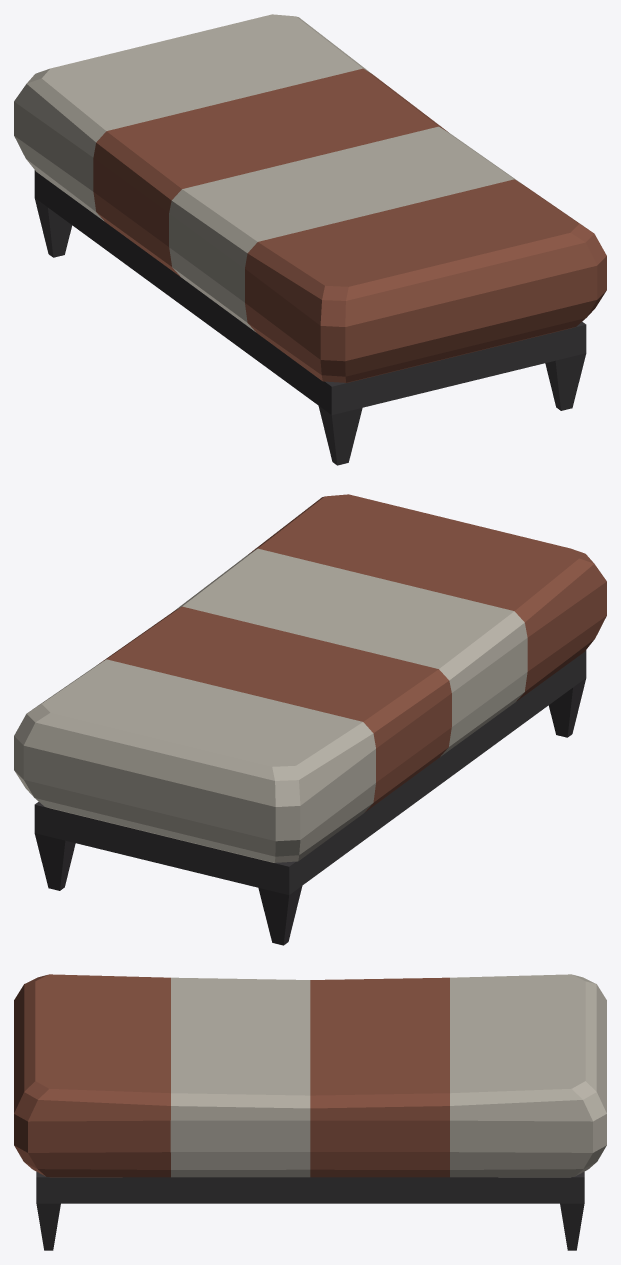
Rendered from SM_Pouf_02.glb.
The picture shows the model from 3 angles, top to bottom: view 1: azimuth 30°, elevation 25°; view 2: azimuth 150°, elevation 25°; view 3: azimuth 270°, elevation 25°; orthographic projection. The views are drawn at different scales.
Visible parts, largest first — view 1: SM_Pouf_02; view 2: SM_Pouf_02; view 3: SM_Pouf_02.
Boxes of the visible parts, left/top/right/bottom form: SM_Pouf_02: left=14, top=14, right=606, bottom=465; SM_Pouf_02: left=14, top=494, right=606, bottom=945; SM_Pouf_02: left=14, top=974, right=606, bottom=1250.
Size of the model in its own units: 0.5862 by 0.3532 by 1.14.
Materials: 1 (1 with a texture image).
